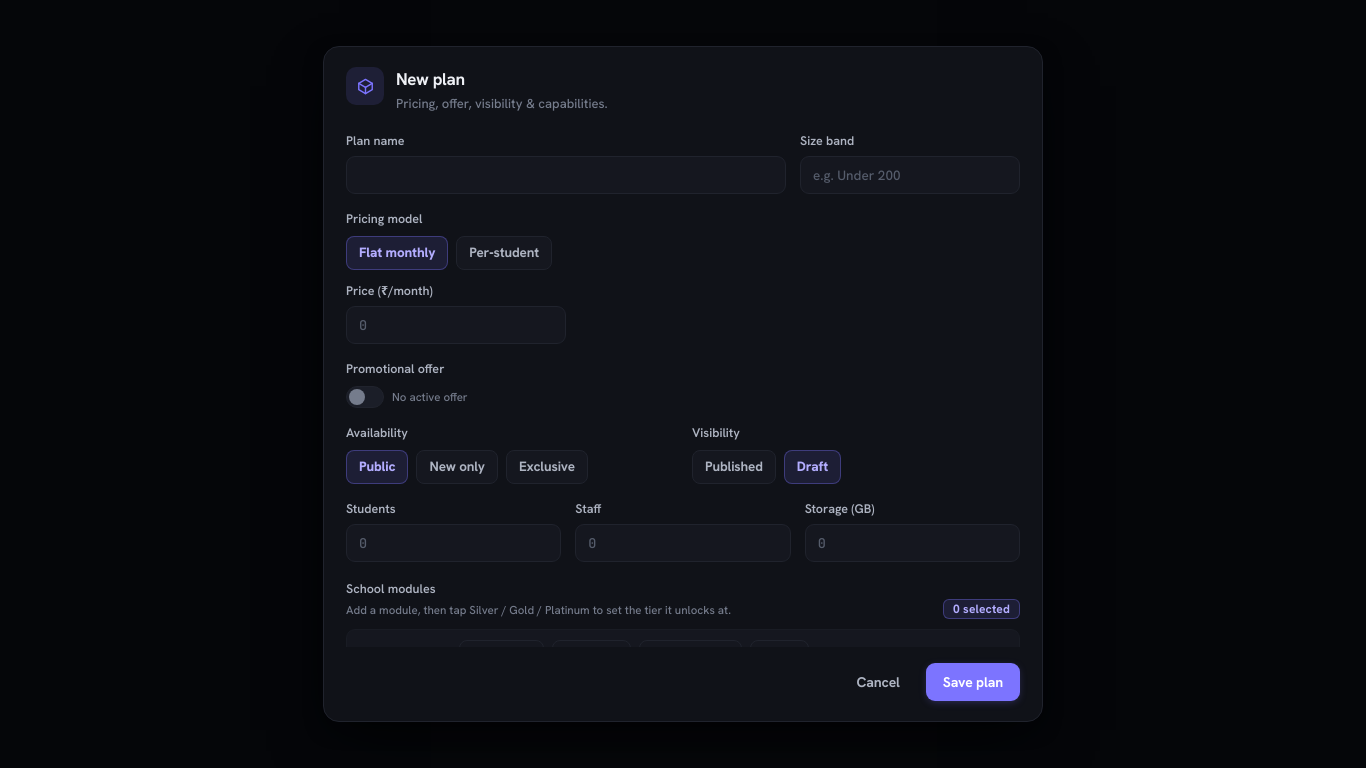
Scenario: PlanEditModal validation › blocks Save and shows errors when required fields are blank
Click the button "Save plan" at (973, 682), box [926,663,1020,701]
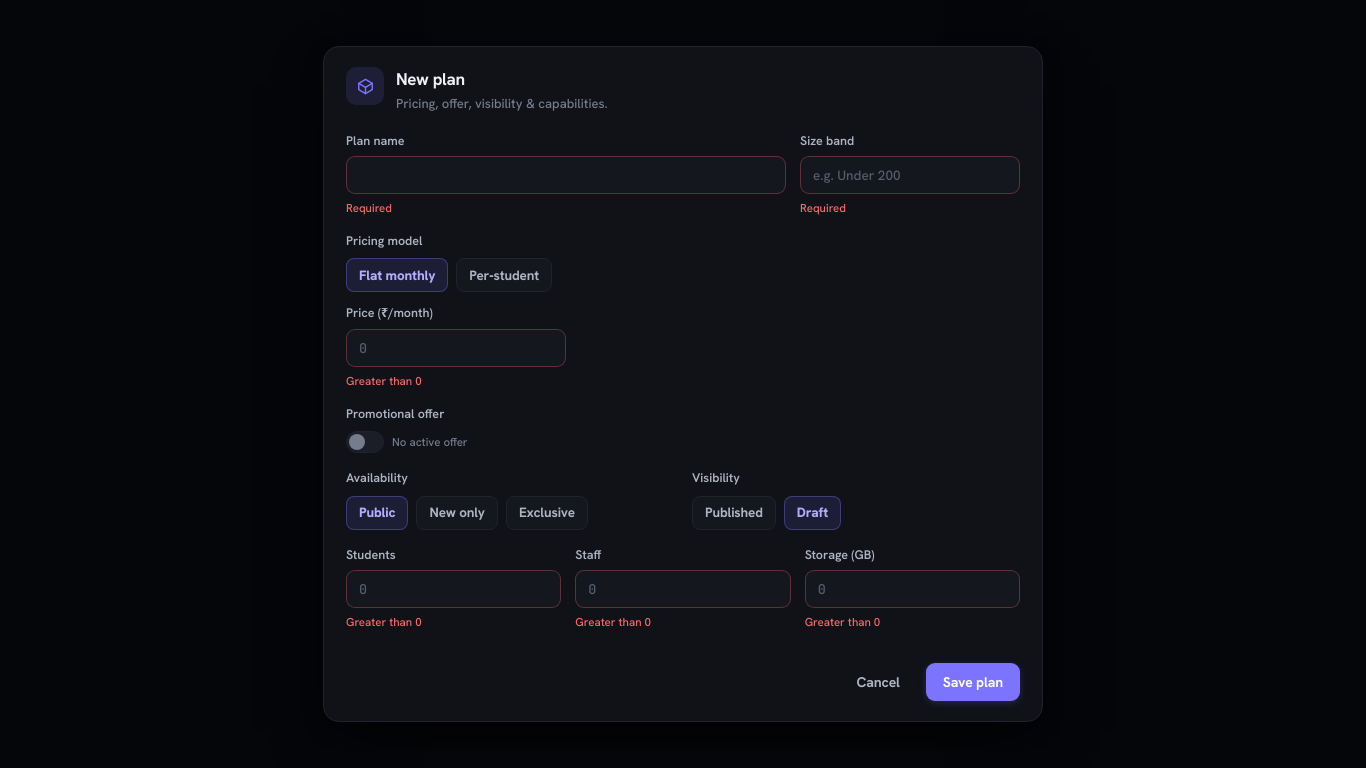
Expected: the text "Required" below "Plan name" is shown, [346,200,392,215]
